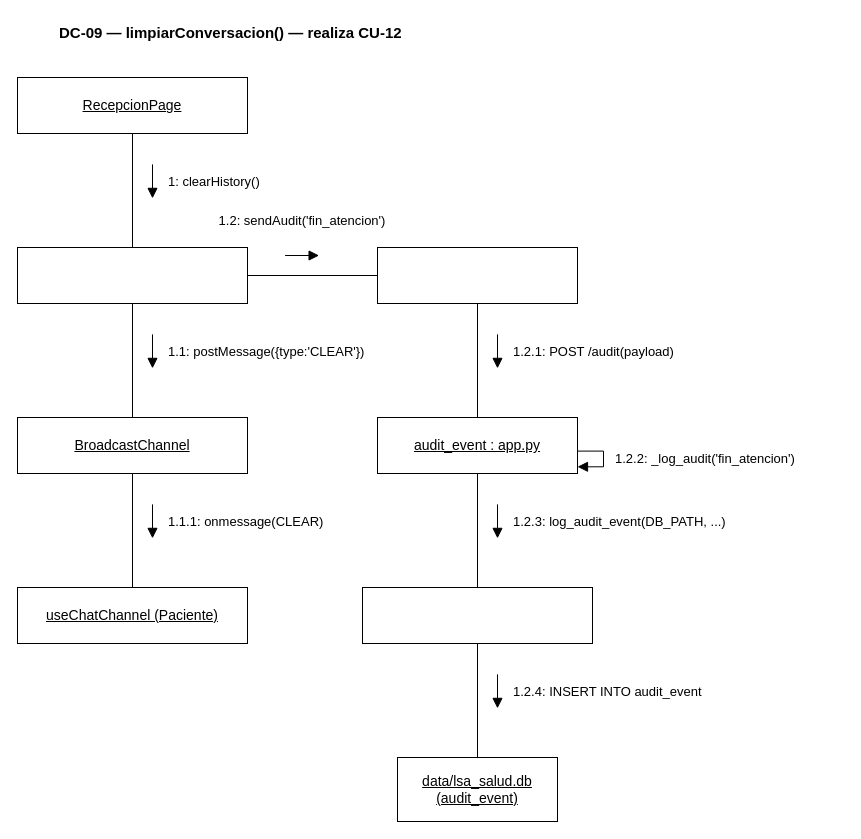
The diagram is 861 pixels wide and 839 high, and some of its shapes have lost their labels. Here are the shapes that lost their labels. From the top down, the box of each, then its label:
(16, 246, 248, 304): useChatChannel (Recepción)
(376, 246, 578, 304): sendAudit() : audit.ts
(362, 586, 592, 644): log_audit_event() : storage.py
